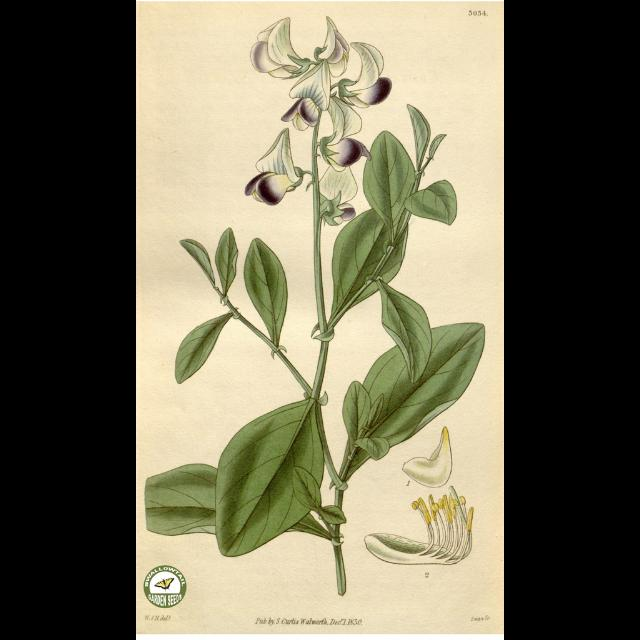Flower: (245, 128, 303, 206), (338, 42, 398, 108), (320, 95, 370, 173), (251, 15, 307, 76), (282, 61, 328, 135), (318, 165, 358, 225), (313, 14, 345, 78)
